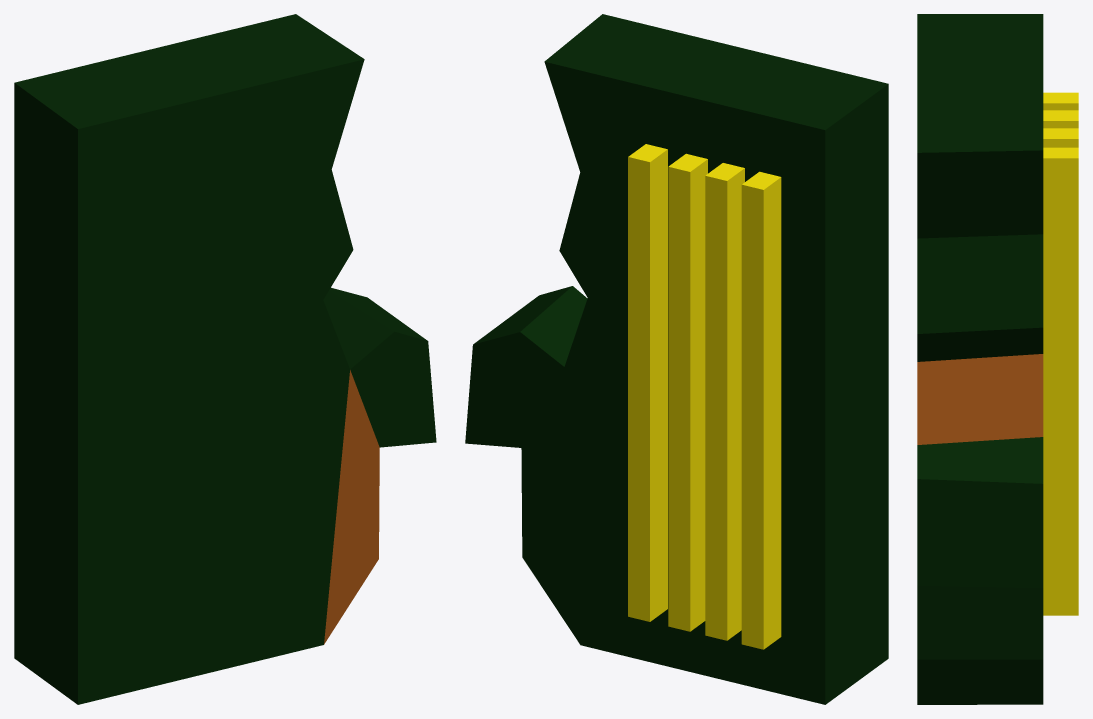
Rendered from Collectible_Piece_A.FBX.
The picture shows the model from 3 angles, left to right: view 1: azimuth 30°, elevation 25°; view 2: azimuth 150°, elevation 25°; view 3: azimuth 270°, elevation 25°; orthographic projection.
Visible parts, largest first — view 1: Piece_A; view 2: Piece_A; view 3: Piece_A.
Part boxes in pixels (x1=…): Piece_A: x1=14, y1=14, x2=436, y2=704; Piece_A: x1=465, y1=14, x2=888, y2=704; Piece_A: x1=917, y1=14, x2=1078, y2=704.
Size of the model in its own units: 32.79 by 50 by 12.8.
